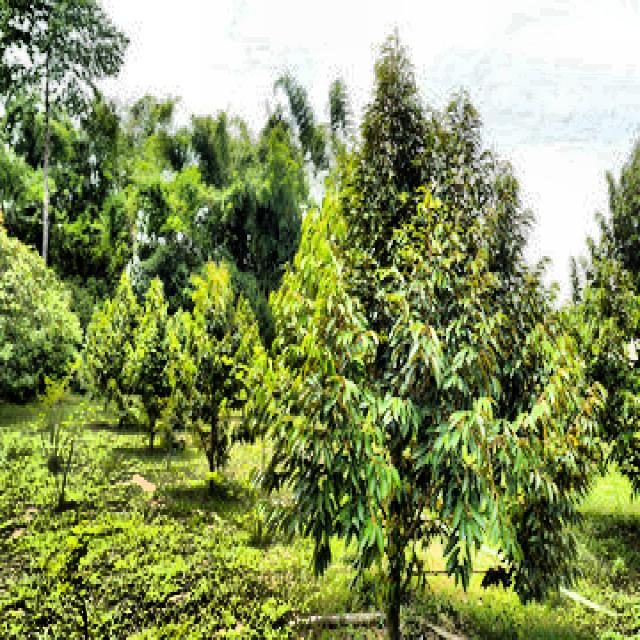arvore: (376, 385, 418, 640), (206, 332, 231, 506)
